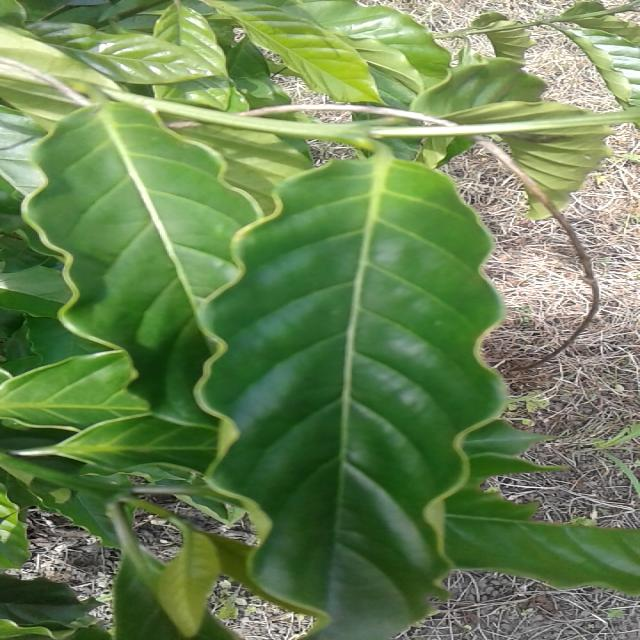Sanas: (193, 152, 534, 638)
